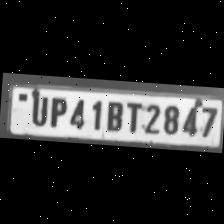1: (86, 96, 104, 130)
2: (140, 98, 162, 133)
4: (66, 93, 88, 128), (178, 101, 198, 136)
7: (196, 102, 218, 137)
8: (159, 100, 181, 134)
B: (102, 96, 124, 130)
P: (45, 92, 67, 126)
T: (122, 97, 144, 132)
U: (26, 91, 48, 125)
